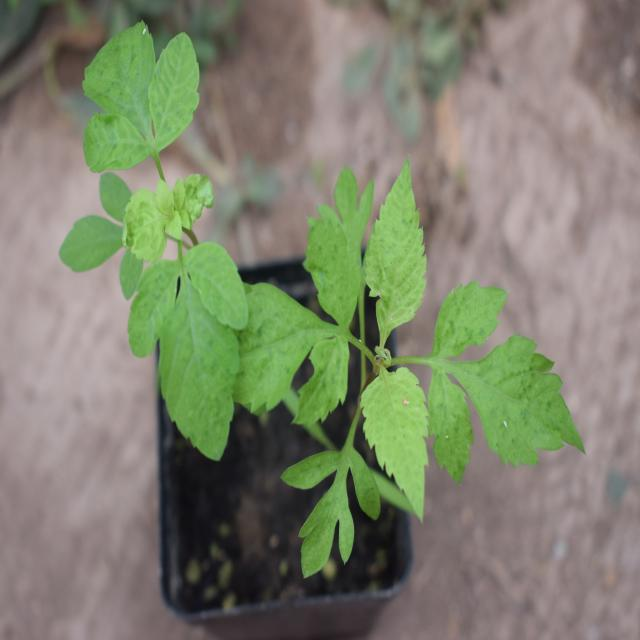Bidens pilosa: (239, 148, 594, 567), (62, 16, 252, 468)
